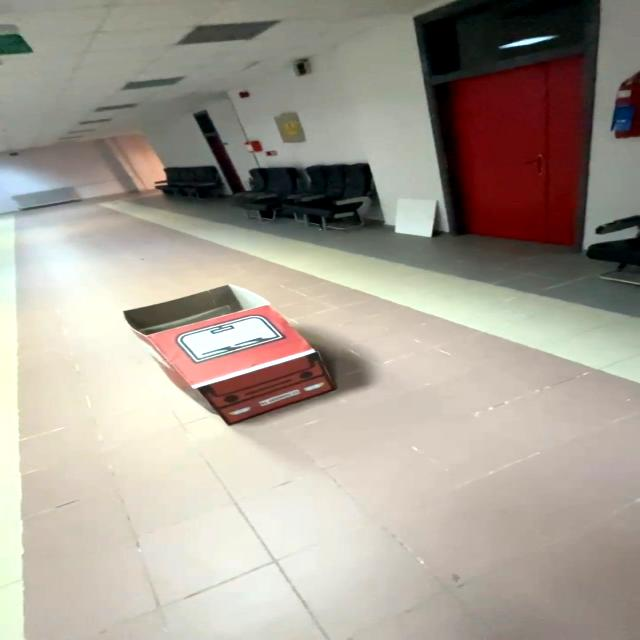red_car: (103, 279, 395, 437)
